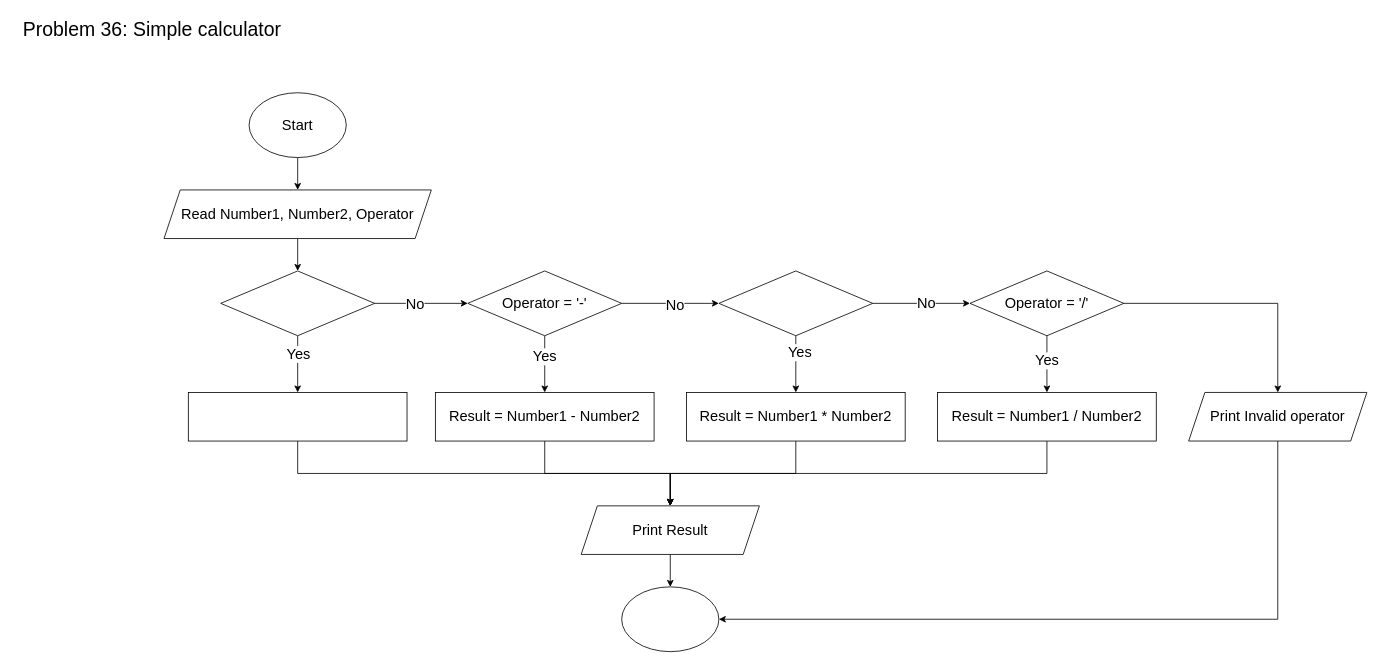
Image size: 1381x666. Some labels were removed from this diagram. The centre of each missing label's shape, as x and y in pixels:
End: (670,619)
Operator = '*': (795,303)
Operator = '+': (297,303)
Result = Number1 + Number2: (297,416)
